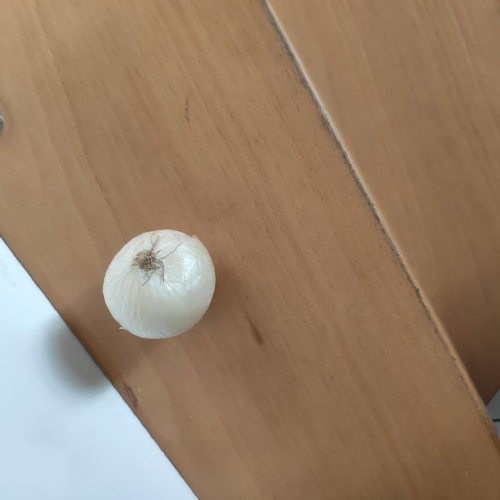cipolla: (93, 224, 225, 343)
